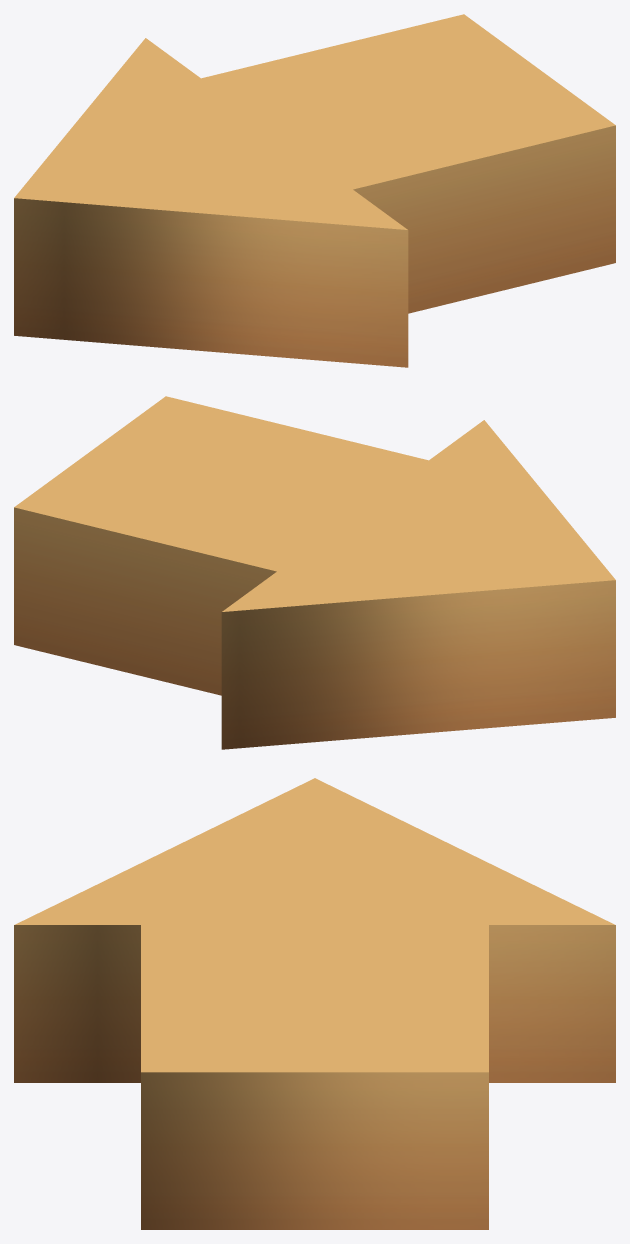
File: kenney-factory-arrow.glb
3 renders of one model, top to bottom at view 1: azimuth 30°, elevation 25°; view 2: azimuth 150°, elevation 25°; view 3: azimuth 270°, elevation 25°, orthographic. The views are drawn at different scales.
Visible parts, largest first — view 1: arrow; view 2: arrow; view 3: arrow.
Part boxes in pixels (x1,y1,x2,y2): arrow: (14, 14, 615, 367); arrow: (14, 396, 615, 749); arrow: (14, 778, 615, 1229).
Size of the model in its own units: 0.8 by 0.2 by 0.692.
Materials: 1 (1 with a texture image).
